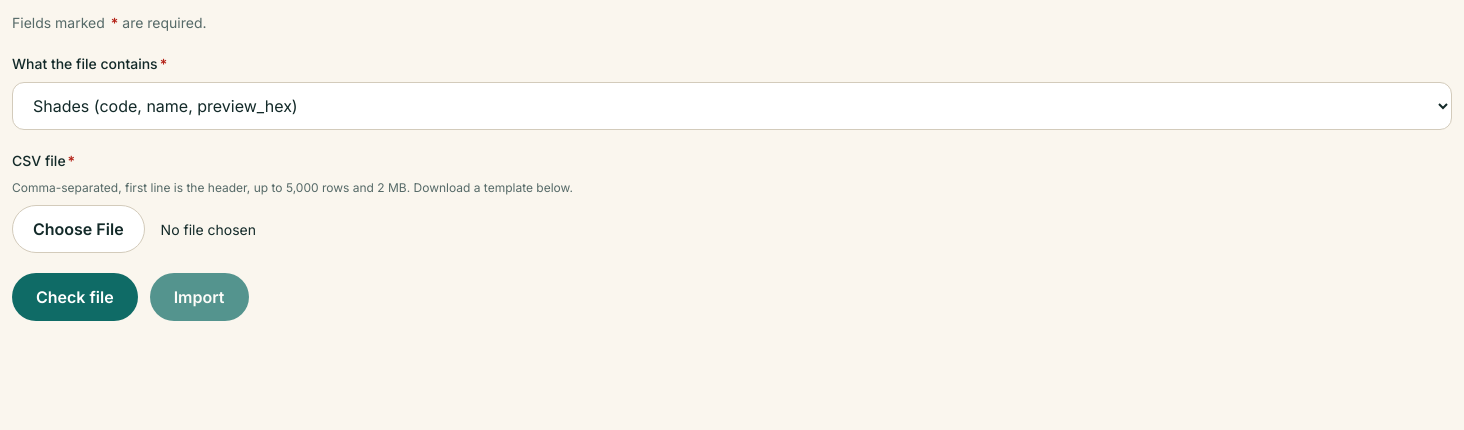
Test: ImportForm › allows Import only after a clean check
The width and height of the screenshot is (1464, 430).
Expected: the button "Import" is disabled, [150, 273, 249, 321]
Click the button "Check file" at (75, 297), box [12, 273, 138, 321]
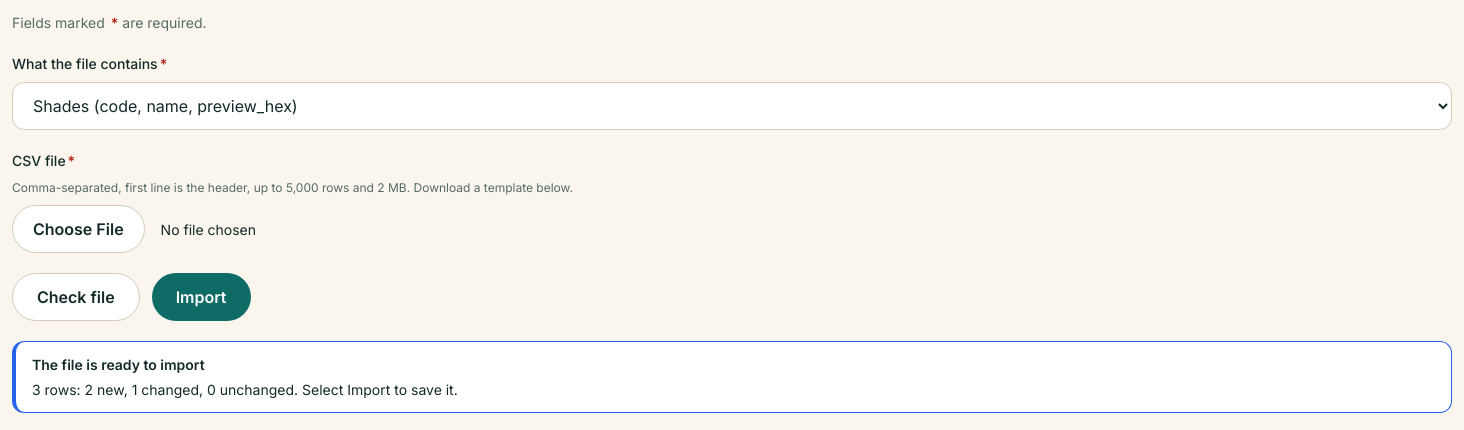
Expected: the text "The file is ready to import" is shown, [32, 356, 205, 373]
Expected: the text "3 rows: 2 new, 1 changed, 0 unchanged" is shown, [32, 381, 298, 398]
Expected: the button "Import" is enabled, [152, 273, 251, 321]
